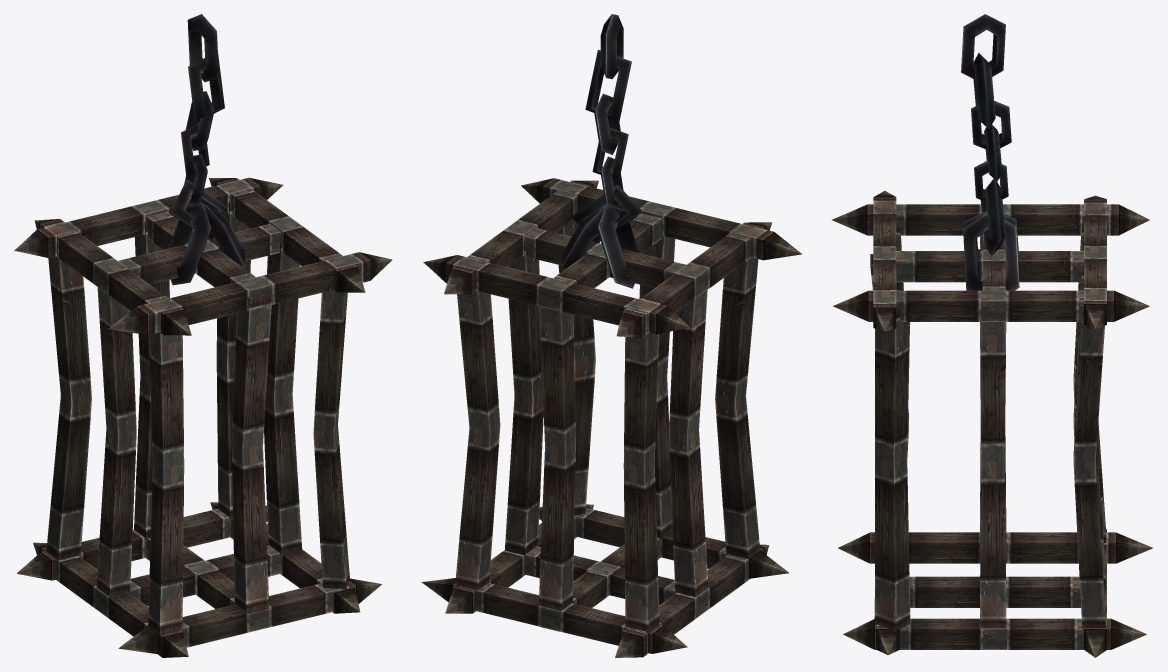
The model's file is D_tielong004.fbx.
3 views of the same model, side by side, from view 1: azimuth 30°, elevation 25°; view 2: azimuth 150°, elevation 25°; view 3: azimuth 270°, elevation 25° (orthographic). The views are drawn at different scales.
Parts seen in each view (by area): view 1: D_tielong004; view 2: D_tielong004; view 3: D_tielong004.
Boxes of the visible parts, x1,y1,x2,y2 form: D_tielong004: (14, 14, 392, 657); D_tielong004: (421, 14, 801, 657); D_tielong004: (832, 14, 1153, 657).
Bounding box in the file's own units: 245 × 477 × 237.
